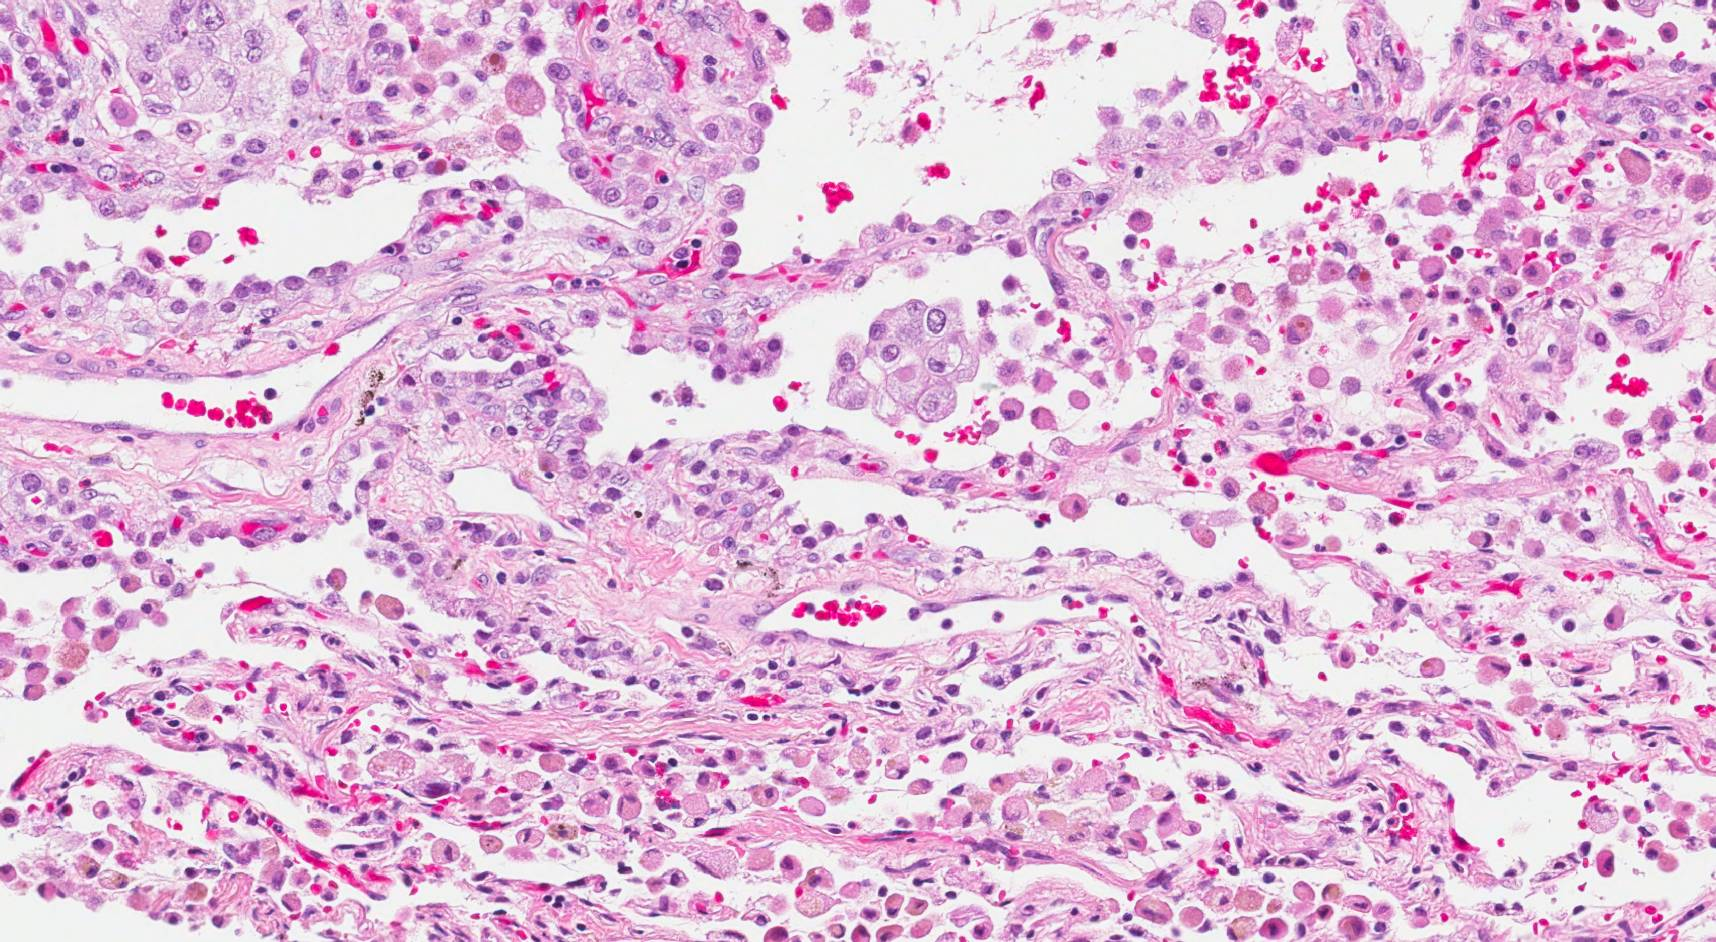stas: (823, 299, 980, 425)
